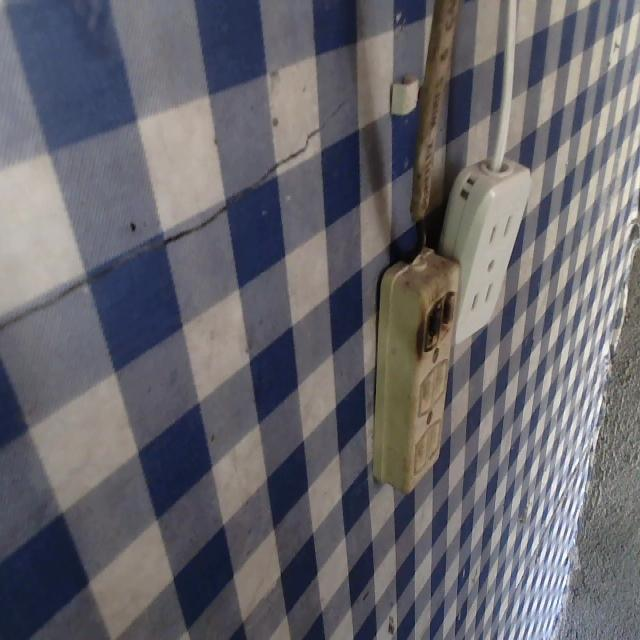-: (411, 288, 457, 353)
